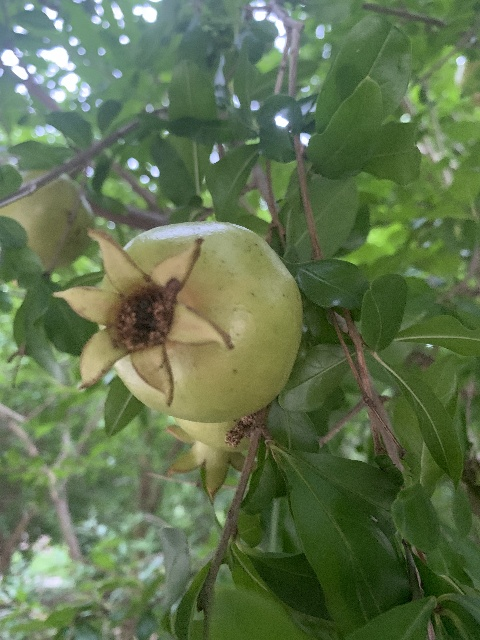mid-growth: (55, 214, 303, 421), (0, 170, 93, 279), (164, 416, 257, 503)
